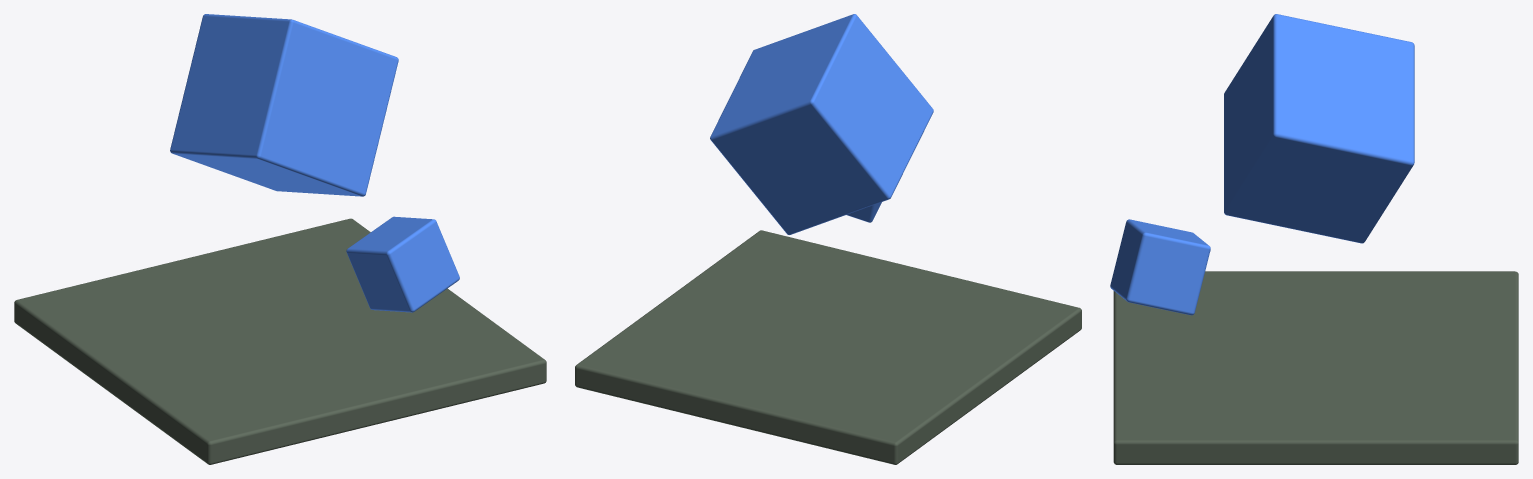
The picture shows the model from 3 angles, left to right: view 1: azimuth 30°, elevation 25°; view 2: azimuth 150°, elevation 25°; view 3: azimuth 270°, elevation 25°; orthographic projection. The views are drawn at different scales.
Parts seen in each view (by area): view 1: Floor, Cube, Cube 2; view 2: Floor, Cube; view 3: Floor, Cube, Cube 2.
Part boxes in pixels (x1,y1,x2,y2): Floor: [14, 218, 546, 464]; Cube: [170, 14, 398, 196]; Cube 2: [346, 216, 459, 312]; Floor: [575, 230, 1081, 464]; Cube: [710, 14, 933, 234]; Floor: [1113, 271, 1518, 464]; Cube: [1224, 14, 1414, 243]; Cube 2: [1110, 219, 1210, 315].
Bounding box in the file's own units: 4.65 × 4.59 × 4.69.
